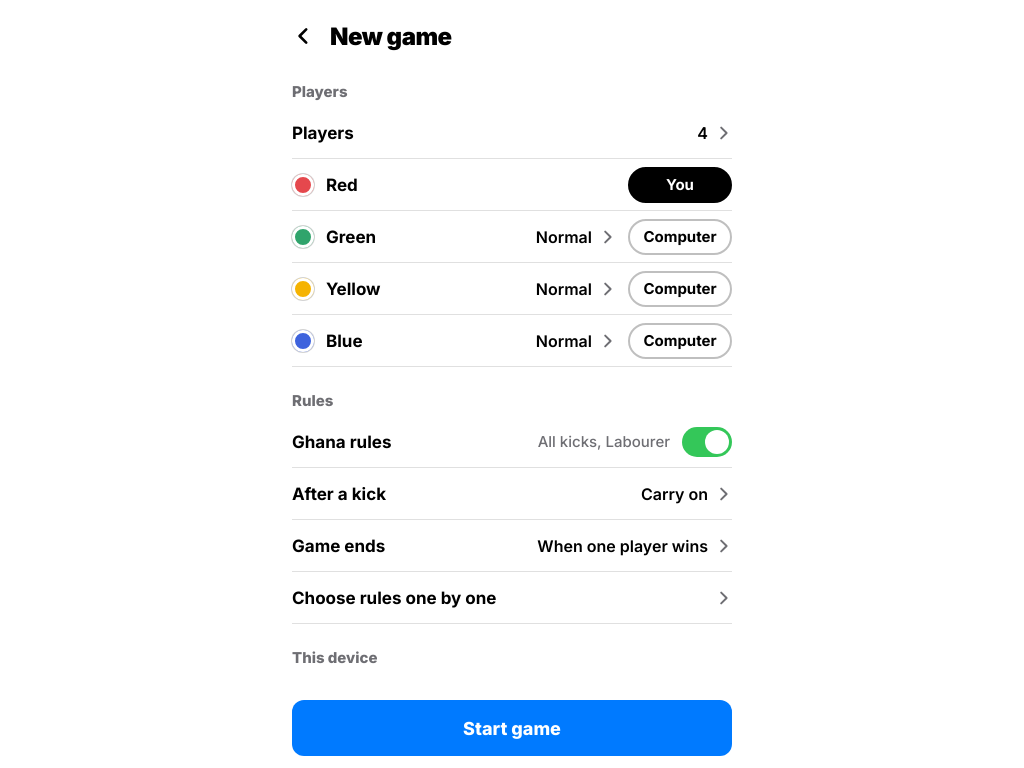
Setup › pickers › show the current option checked, and close when one is picked
The width and height of the screenshot is (1024, 768).
Click the button "After a kick Carry on": (339, 494) x1=292 y1=468 x2=732 y2=520
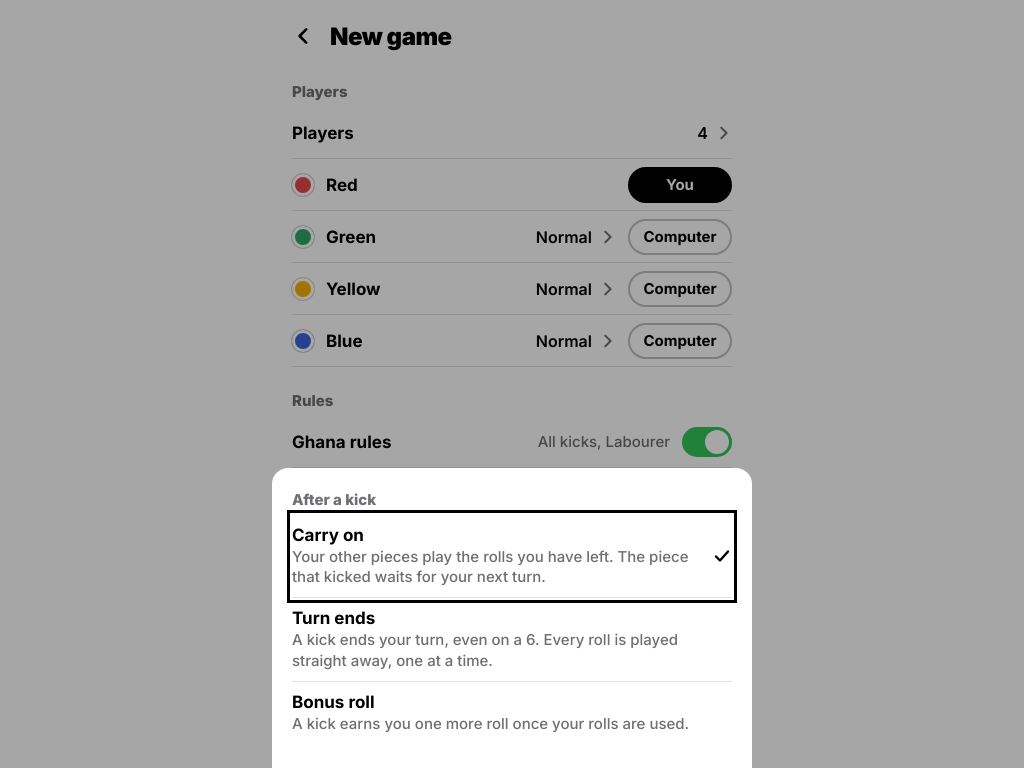
Click the radio button labelled "Bonus roll": (512, 713) x1=292 y1=682 x2=732 y2=744
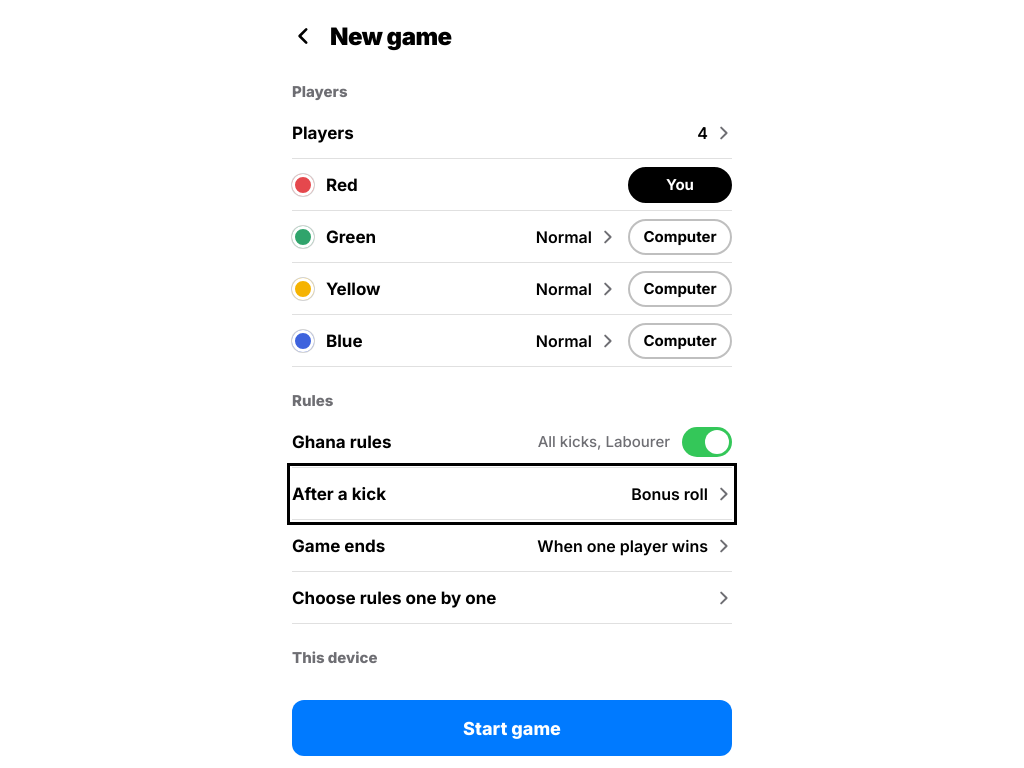
expect the dialog is gone: met
expect the button "After a kick Bonus roll" is shown: met, box x1=292 y1=468 x2=732 y2=520
